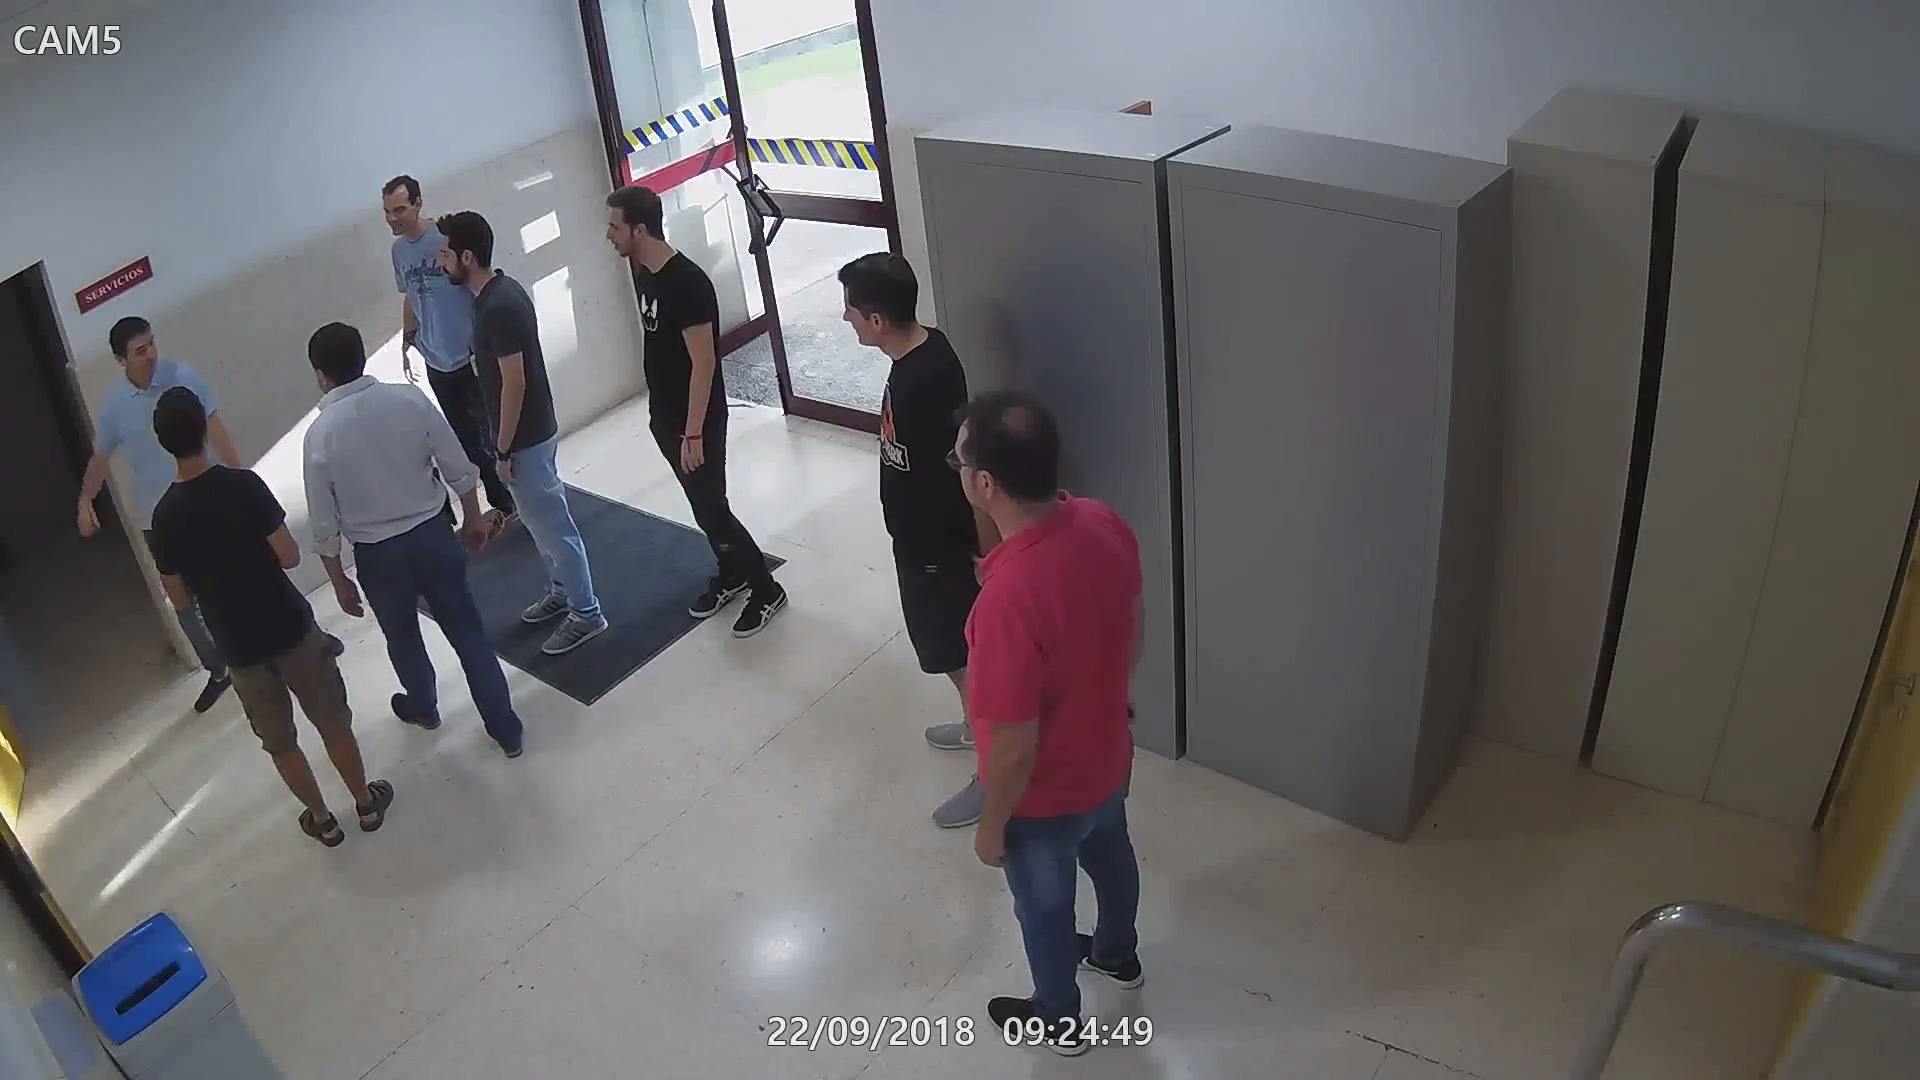Handgun: (427, 462, 458, 527), (397, 322, 421, 351)
